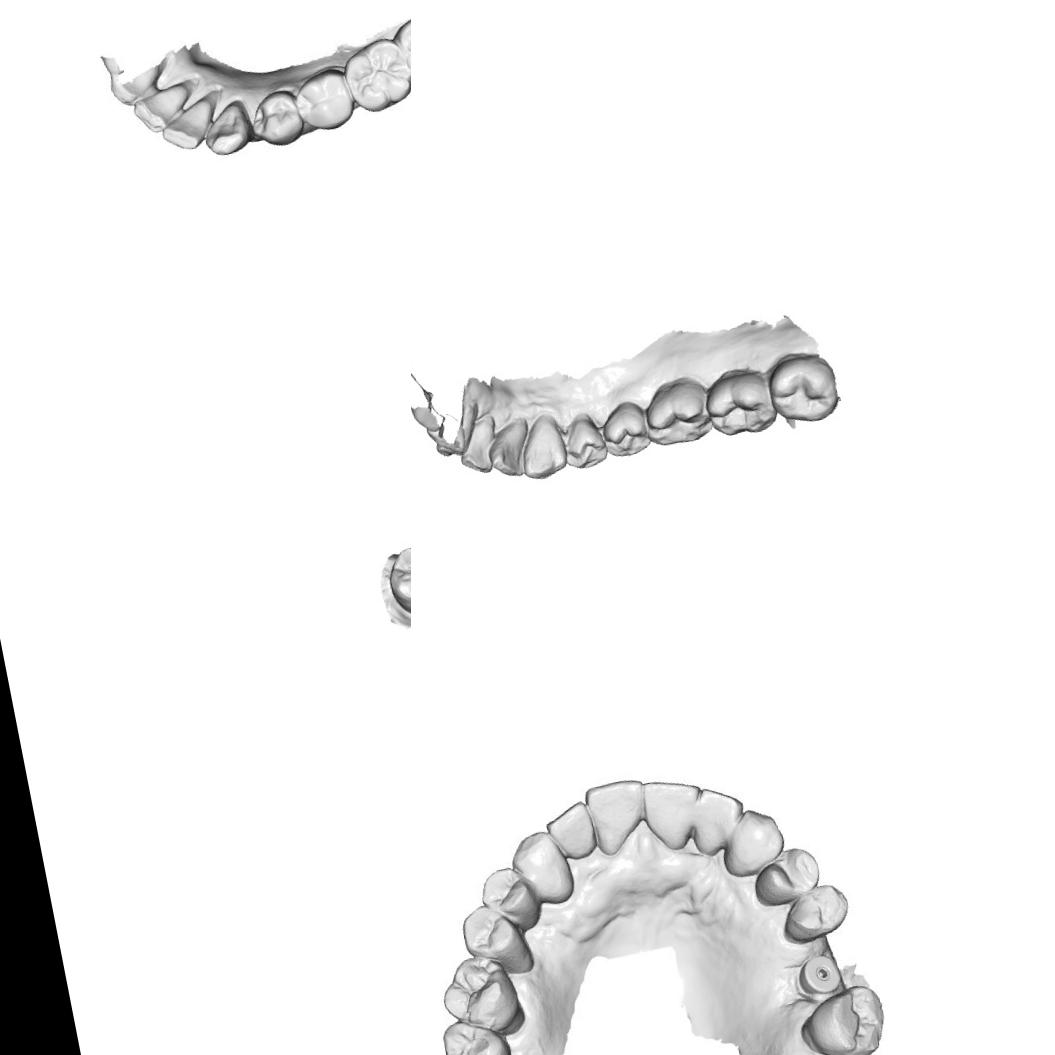canine: (506, 824, 578, 912), (712, 802, 790, 882), (513, 411, 571, 483), (196, 97, 256, 164)
implant: (796, 948, 844, 998)
incisor: (633, 766, 708, 848), (578, 774, 652, 854), (690, 780, 750, 850), (544, 798, 599, 867), (482, 417, 538, 482), (155, 95, 221, 150), (452, 413, 505, 477), (134, 84, 193, 125)
molar: (432, 947, 524, 1043), (768, 344, 860, 430), (797, 980, 895, 1055), (701, 362, 780, 444), (638, 373, 714, 450), (342, 40, 411, 113), (435, 1013, 515, 1055), (381, 538, 411, 628), (393, 3, 411, 74)
premolar: (776, 876, 856, 948), (455, 898, 527, 973), (747, 845, 822, 915), (472, 864, 542, 930), (294, 69, 356, 130), (596, 397, 652, 460), (558, 408, 610, 472), (252, 93, 305, 146)
